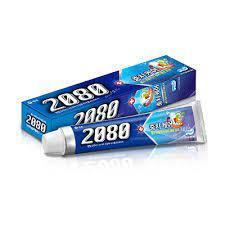toothpaste: (38, 106, 215, 163)
